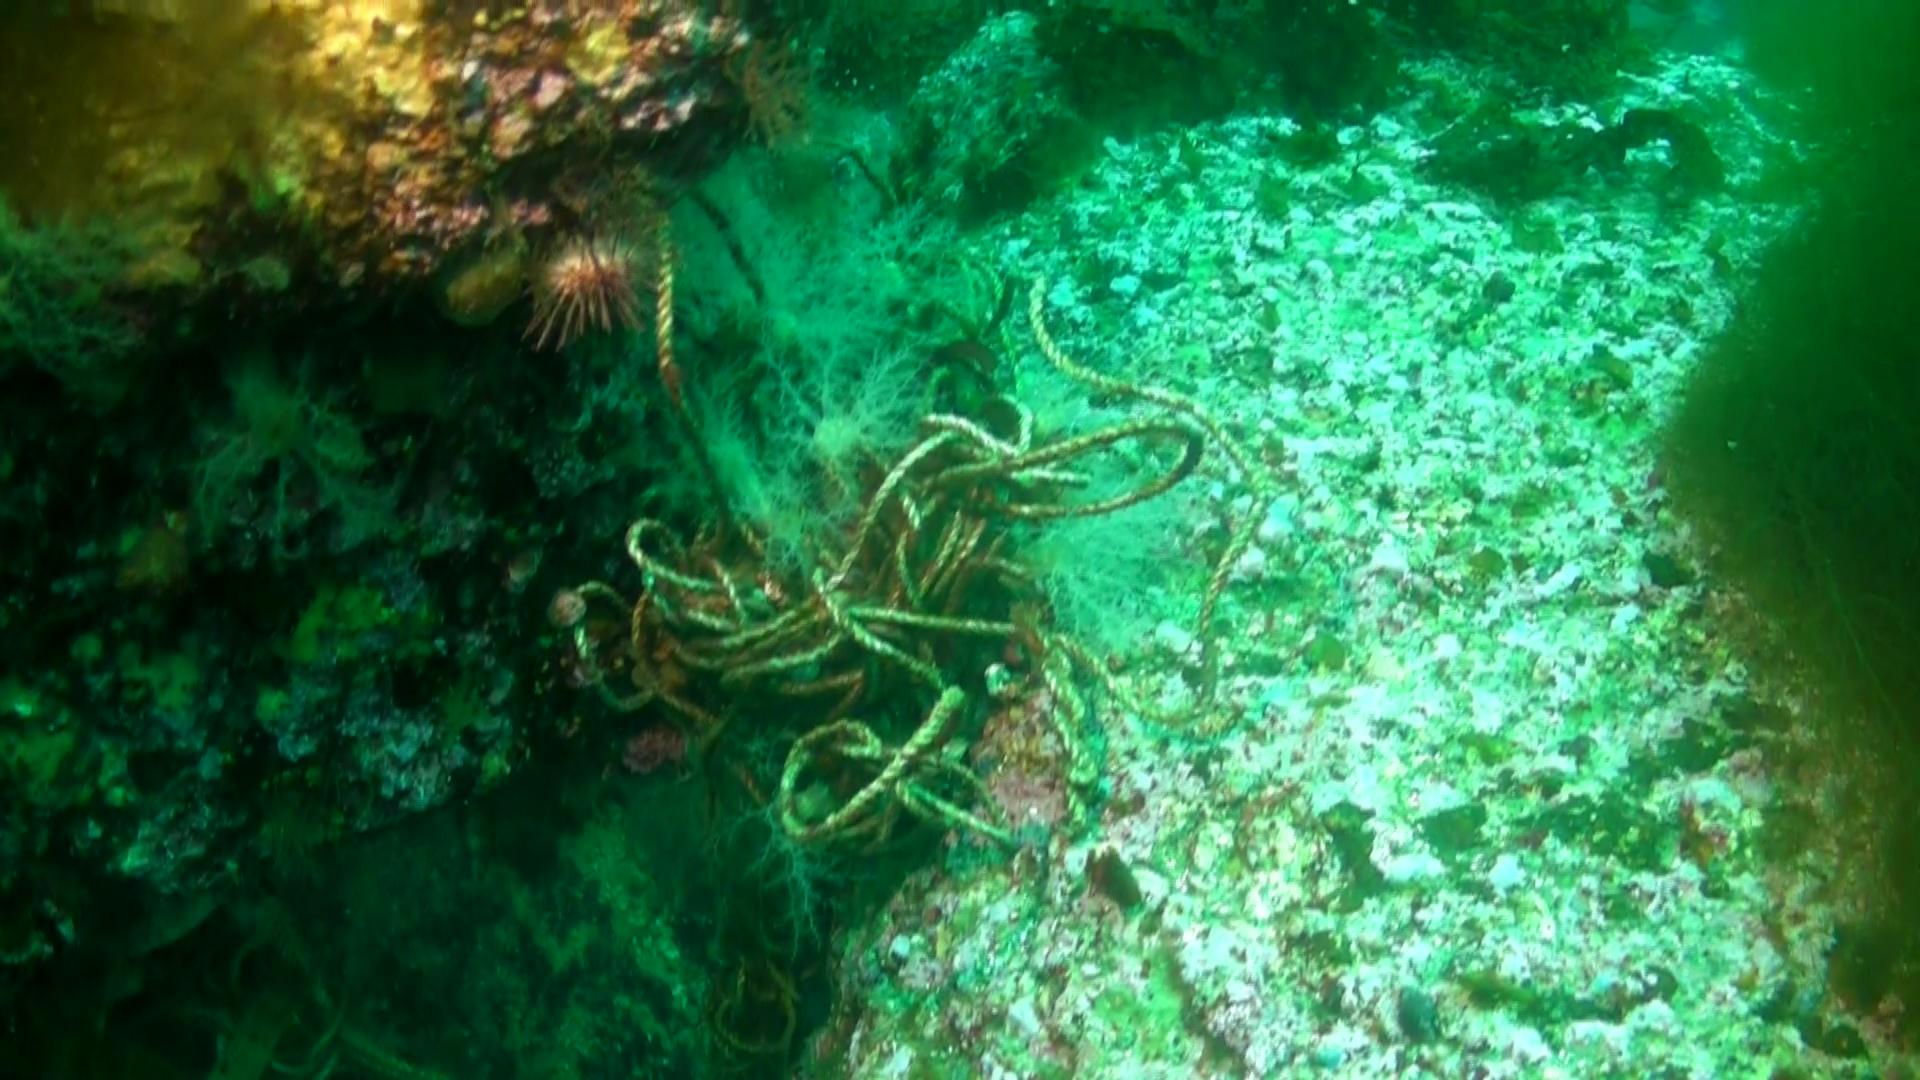bundle of ropes: (570, 211, 1265, 857)
